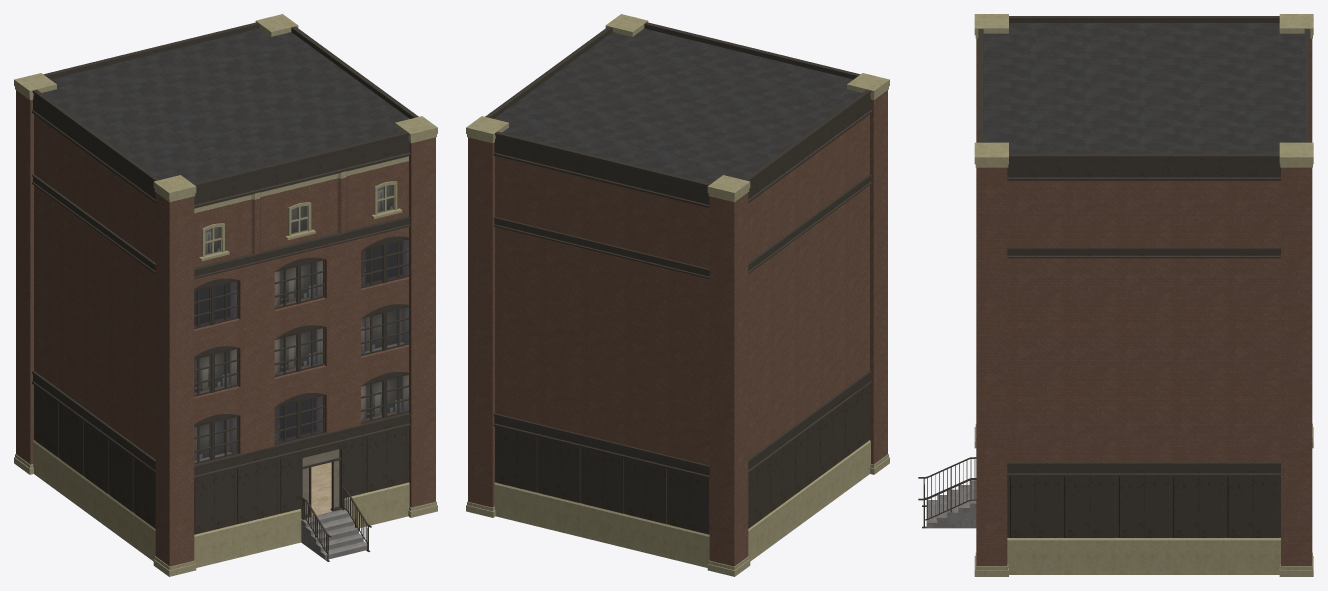
The model's file is Building_Small_1.glb.
3 renders of one model, left to right at view 1: azimuth 30°, elevation 25°; view 2: azimuth 150°, elevation 25°; view 3: azimuth 270°, elevation 25°, orthographic. The views are drawn at different scales.
Parts seen in each view (by area): view 1: Building_Small_1; view 2: Building_Small_1; view 3: Building_Small_1.
Boxes of the visible parts, left/top/right/bottom form: Building_Small_1: left=14, top=14, right=437, bottom=576; Building_Small_1: left=466, top=14, right=889, bottom=576; Building_Small_1: left=918, top=14, right=1313, bottom=576.
Bounding box in the file's own units: 12.46 × 17.03 × 14.54.
10 materials, 9 textured.
